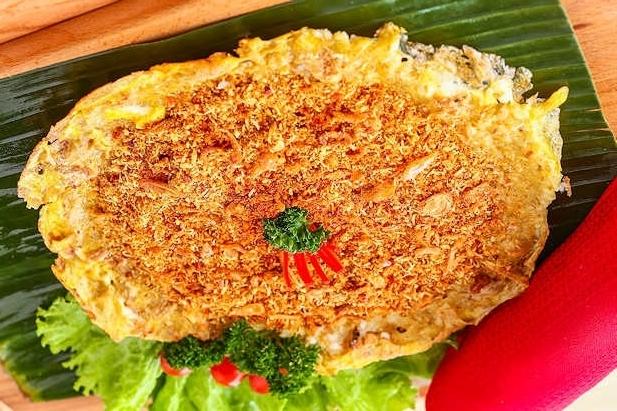kerak_telor: (15, 26, 569, 319)
